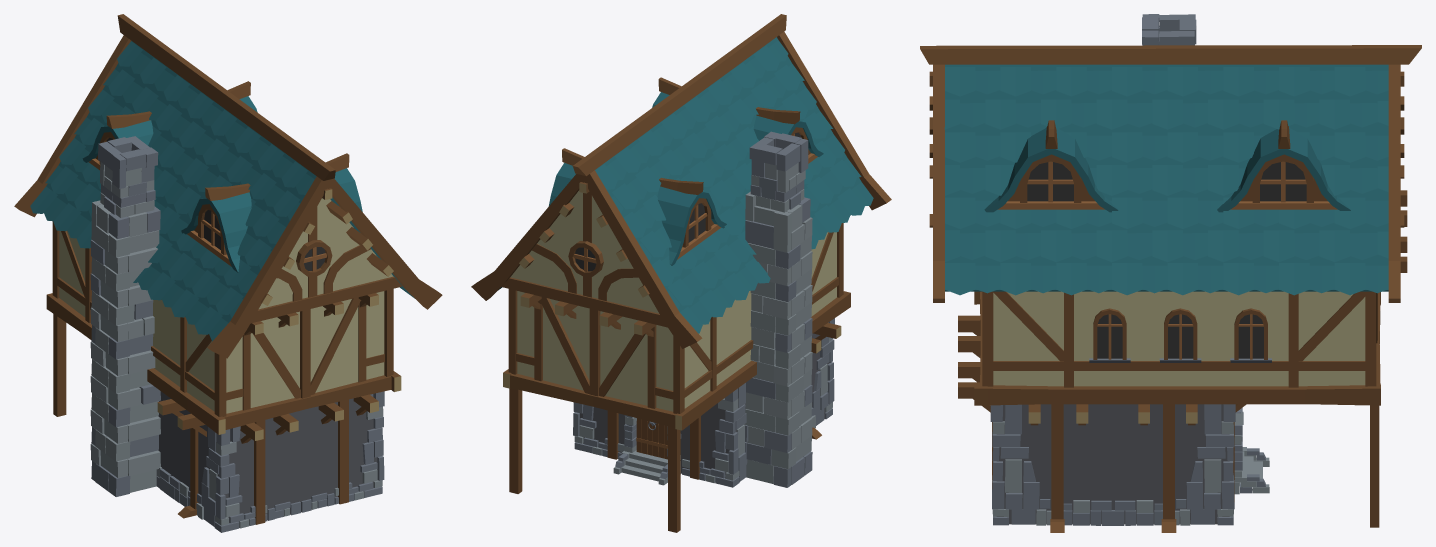
File: house_2.glb
3 views of the same model, side by side, from view 1: azimuth 30°, elevation 25°; view 2: azimuth 150°, elevation 25°; view 3: azimuth 270°, elevation 25° (orthographic). The views are drawn at different scales.
Parts seen in each view (by area): view 1: House_2; view 2: House_2; view 3: House_2.
Boxes of the visible parts, box(x1,y1,x2,y2) form: House_2: box(14, 14, 442, 532); House_2: box(471, 14, 891, 532); House_2: box(920, 14, 1421, 532).
Size of the model in its own units: 2.22 by 3.25 by 3.42.
